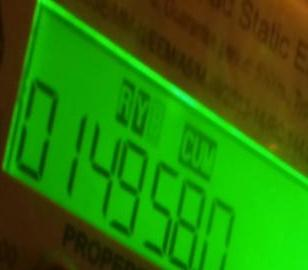1: (9, 82, 59, 185), (198, 194, 241, 270)
2: (63, 111, 87, 199)
5: (89, 120, 121, 220)
6: (146, 158, 185, 249)
9: (166, 178, 212, 269)
:: (111, 141, 154, 221)
